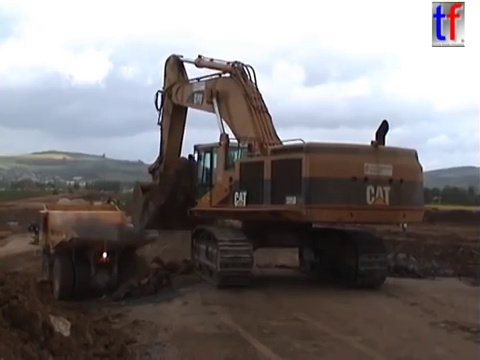excavator: (128, 51, 429, 293), (99, 196, 122, 211)
truck: (26, 197, 161, 300), (185, 187, 279, 251), (51, 187, 61, 197), (67, 187, 74, 195)
worker: (397, 210, 411, 233)
